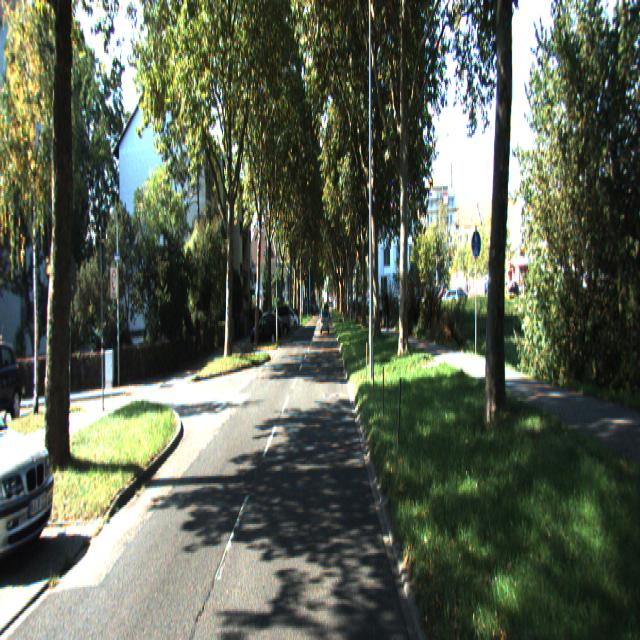Car: (0, 360, 64, 578), (252, 306, 280, 342)
DontCare: (416, 274, 538, 311), (272, 297, 302, 336), (381, 282, 389, 332), (321, 300, 330, 334)
